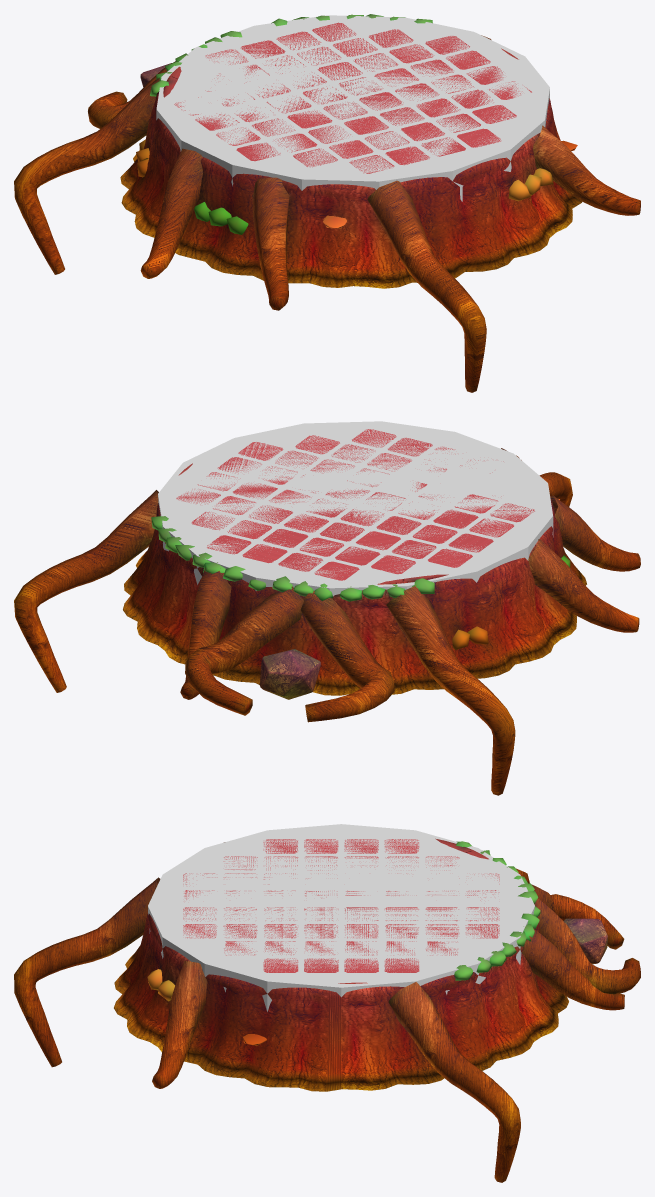
Rendered from env_stump_board.glb.
3 renders of one model, top to bottom at view 1: azimuth 30°, elevation 25°; view 2: azimuth 150°, elevation 25°; view 3: azimuth 270°, elevation 25°, orthographic. The views are drawn at different scales.
Parts seen in each view (by area): view 1: stump_top-col, stump_body, stump_roots, stump_pads, stump_moss_fungus; view 2: stump_top-col, stump_roots, stump_body, stump_pads, stump_moss_fungus, stump_boulder; view 3: stump_top-col, stump_body, stump_roots, stump_pads, stump_moss_fungus, stump_boulder.
Part boxes in pixels (x1,y1,x2,y2): stump_top-col: (156, 15, 549, 201); stump_body: (120, 48, 581, 288); stump_roots: (14, 19, 640, 392); stump_pads: (174, 22, 531, 173); stump_moss_fungus: (136, 14, 577, 234); stump_top-col: (158, 421, 553, 596); stump_roots: (14, 448, 640, 795); stump_body: (123, 463, 586, 695); stump_pads: (176, 429, 534, 580); stump_moss_fungus: (151, 499, 570, 649); stump_boulder: (259, 649, 320, 699); stump_top-col: (148, 824, 534, 1011); stump_body: (114, 838, 568, 1091); stump_roots: (14, 842, 640, 1182); stump_pads: (183, 839, 499, 972); stump_moss_fungus: (147, 841, 540, 1045); stump_boulder: (563, 918, 607, 964).
Size of the model in its own units: 14 by 4.86 by 15.55.
Materials: 4 (4 with a texture image).
